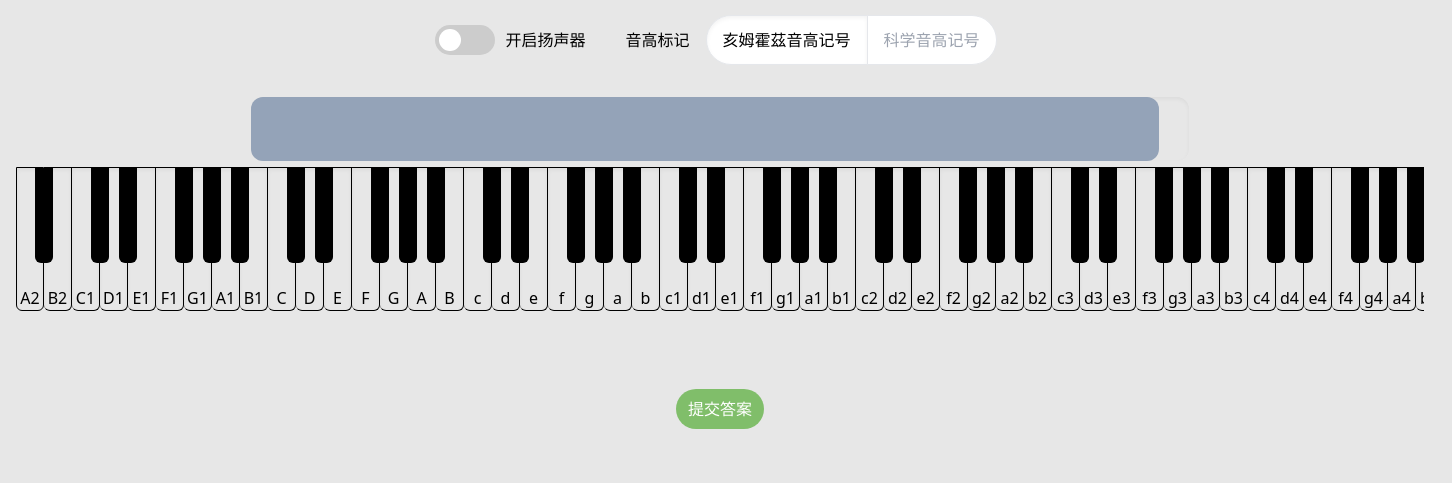
Test: ChordVirtualPiano › no voicing + submit shows 请先生成练习题!
What coordinates should you click on to do the following:
click the button "提交答案"
I would click on:
 (720, 409)
Its box is x1=676 y1=389 x2=764 y2=429.
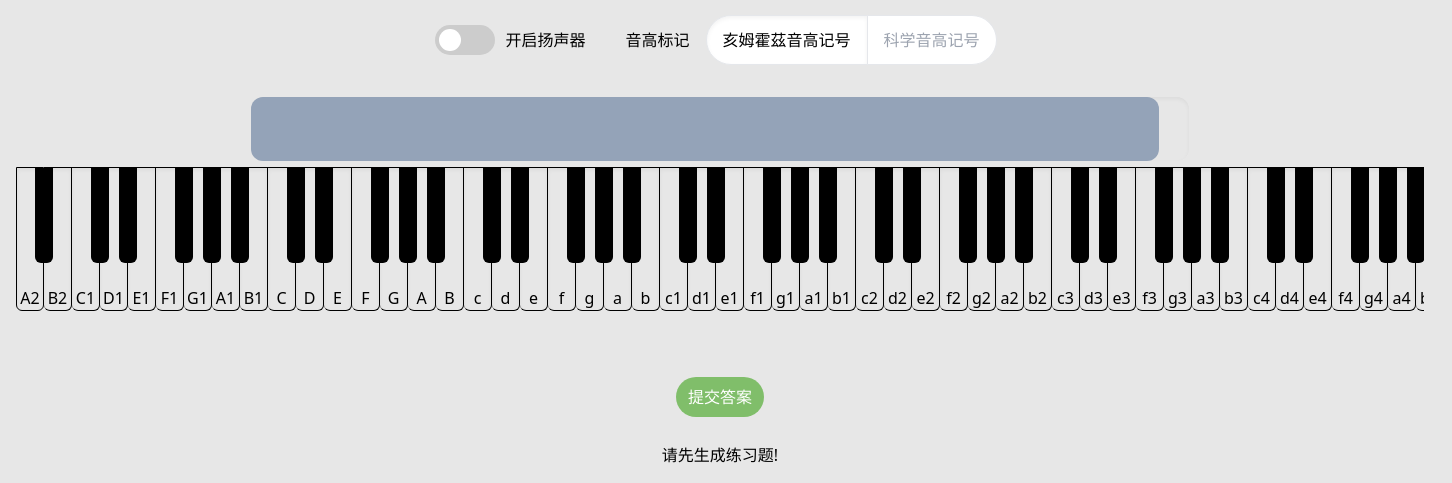
Expected: the text with test id "virtual-piano-message" reads "请先生成练习题!", x1=662 y1=444 x2=778 y2=466
